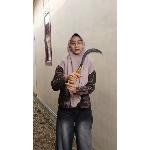Celurit: (67, 44, 105, 86)
